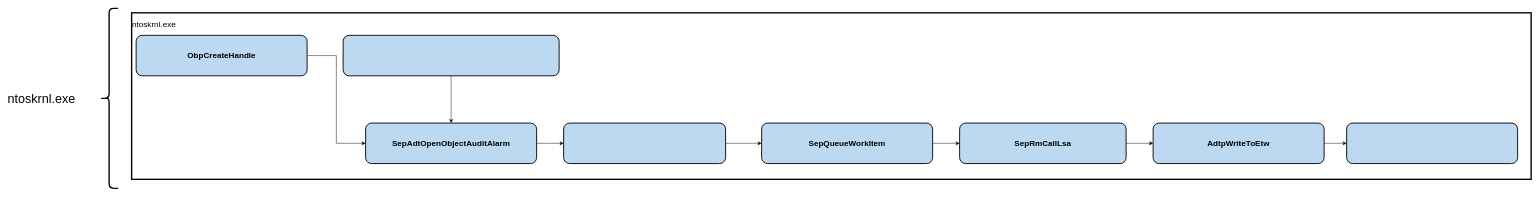
Image size: 1539x197. Some labels were removed from this diagram. Here are the shapes that lost their labels. From the top down, the box of each, then its label:
(342, 35, 559, 76): SepAccessCheckAndAuditAlarmWithAdminlessChecks
(563, 122, 726, 164): SepAdtLogAuditRecord
(1346, 122, 1518, 164): EtwWriteKMSecurityEvent
